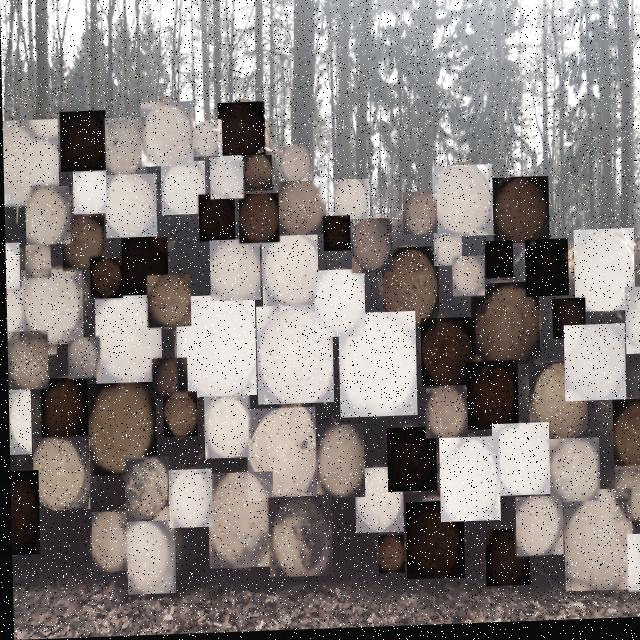wood-log: (174, 296, 255, 399), (337, 314, 415, 420), (255, 307, 332, 407), (561, 493, 631, 596), (244, 409, 315, 503), (205, 473, 272, 570), (86, 383, 155, 477), (93, 296, 161, 384), (469, 286, 539, 369), (266, 498, 330, 580), (437, 440, 498, 526), (572, 233, 634, 316), (2, 120, 59, 208), (562, 328, 624, 406), (20, 269, 82, 346), (403, 504, 462, 583), (527, 365, 586, 444), (381, 250, 438, 330), (431, 168, 492, 241), (31, 437, 90, 511), (490, 426, 548, 500), (260, 237, 317, 309), (492, 180, 549, 248), (419, 320, 474, 390), (464, 364, 517, 434), (125, 521, 174, 596), (314, 427, 363, 501), (313, 272, 365, 340), (140, 103, 193, 168), (104, 175, 156, 241), (352, 470, 402, 537), (385, 430, 436, 495), (548, 442, 599, 506), (208, 241, 259, 303), (39, 378, 87, 440), (124, 457, 169, 523), (203, 397, 250, 460), (217, 104, 266, 163), (513, 500, 561, 560), (59, 112, 106, 173), (120, 238, 167, 297), (24, 187, 69, 246), (277, 183, 325, 238), (483, 532, 528, 590), (523, 243, 568, 301), (166, 470, 210, 529), (8, 470, 38, 555), (89, 512, 130, 573), (104, 118, 146, 176), (160, 162, 205, 216), (6, 331, 47, 390), (61, 217, 104, 272), (146, 276, 190, 329), (350, 221, 392, 276), (424, 391, 466, 442), (610, 404, 640, 475), (238, 195, 278, 245), (198, 195, 234, 243), (161, 393, 196, 439), (72, 170, 106, 215), (7, 389, 30, 455), (613, 470, 640, 526), (402, 194, 437, 237), (333, 181, 369, 222), (150, 359, 186, 400), (209, 158, 243, 201), (66, 337, 99, 379), (551, 302, 584, 343), (451, 259, 483, 300), (89, 259, 121, 300), (189, 122, 222, 159), (279, 147, 312, 184), (623, 291, 640, 359), (243, 158, 272, 195), (484, 244, 512, 282), (322, 218, 350, 254), (376, 538, 402, 576), (433, 236, 461, 270), (625, 539, 640, 598), (5, 288, 23, 337), (24, 245, 50, 278), (4, 243, 19, 289)
